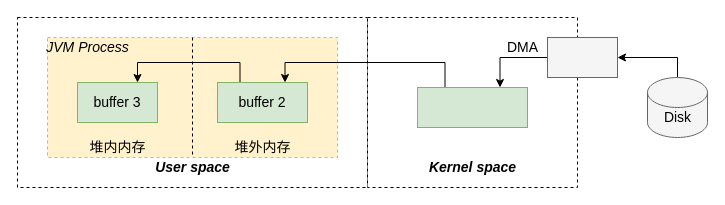
The diagram is 725 pixels wide and 205 high, and some of its shapes have lost their labels. The shapes that lost their labels are listed below. From the top down, each one's centre as x and y in pixels, then its label:
At [582,57]: "Disk Controller".
At [472,107]: "buffer 1".
